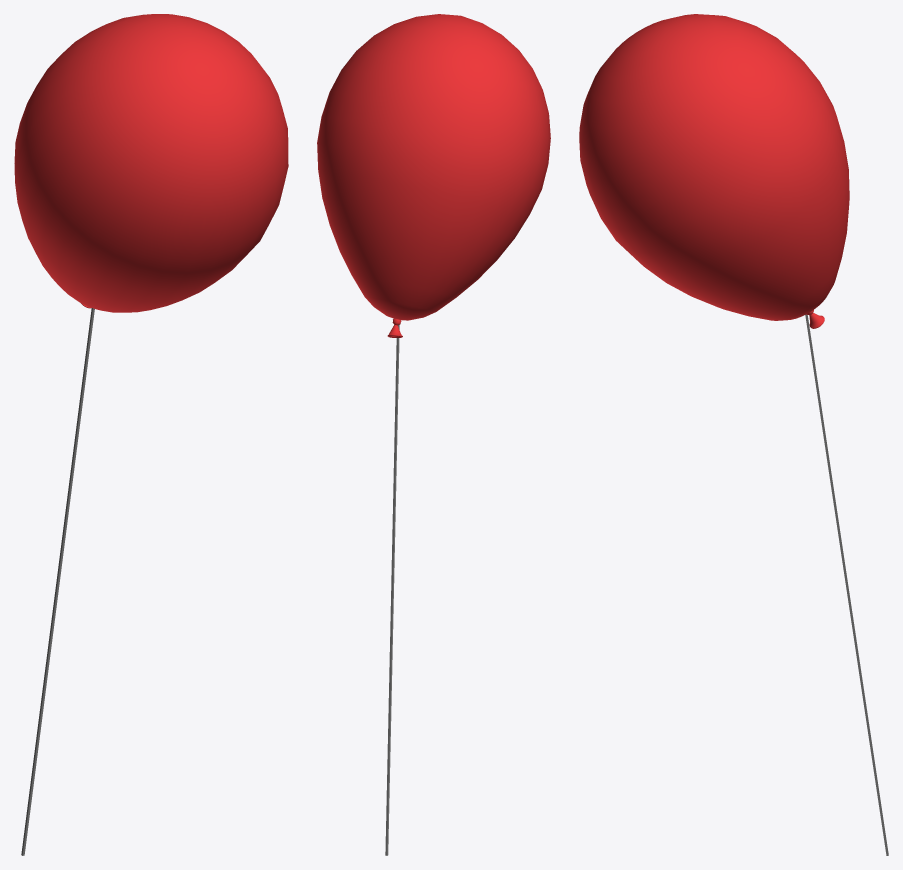
File: balloon.fbx
3 views of the same model, side by side, from view 1: azimuth 30°, elevation 25°; view 2: azimuth 150°, elevation 25°; view 3: azimuth 270°, elevation 25° (orthographic). The views are drawn at different scales.
Visible parts, largest first — view 1: balloon, rope; view 2: balloon, rope; view 3: balloon, rope.
Part boxes in pixels (left/top/right/bottom): balloon: left=14, top=14, right=288, bottom=312; rope: left=21, top=308, right=94, bottom=855; balloon: left=317, top=14, right=550, bottom=337; rope: left=385, top=325, right=399, bottom=855; balloon: left=579, top=14, right=849, bottom=328; rope: left=805, top=314, right=888, bottom=855.
Bounding box in the file's own units: 0.3647 × 1.32 × 0.4378.
